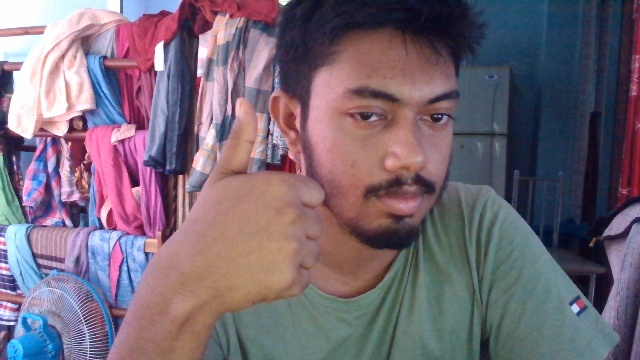yes: (195, 98, 326, 312)
